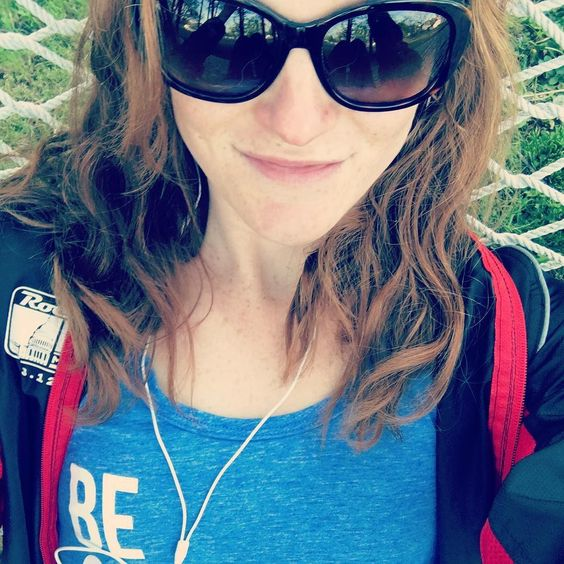sunglasses: (162, 0, 456, 100)
